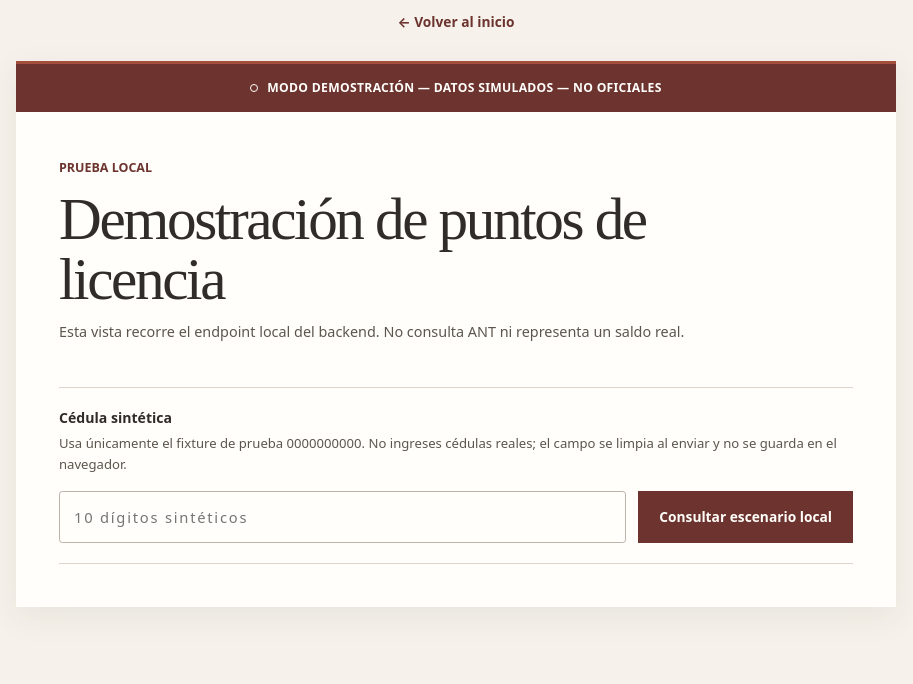
Test: demostración local de puntos ANT › muestra el resultado simulado, la fecha y no persiste la identificación
Step 1. Type "0000000000" into the field labelled "Cédula sintética" → [343, 517], box x1=59 y1=491 x2=626 y2=543
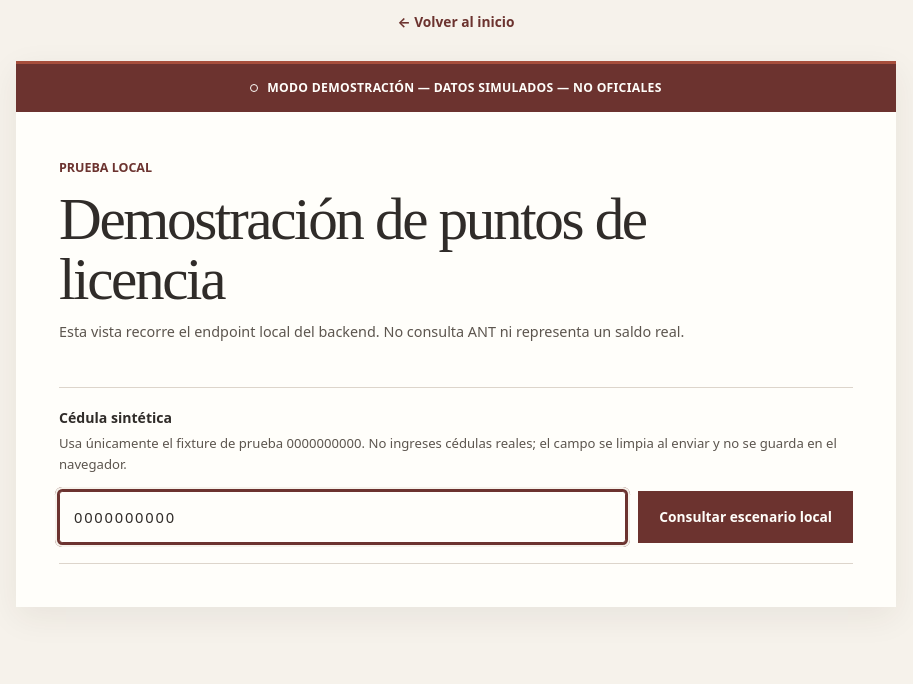
Step 2. Click the button "Consultar escenario local" → [746, 517], box x1=638 y1=491 x2=853 y2=543
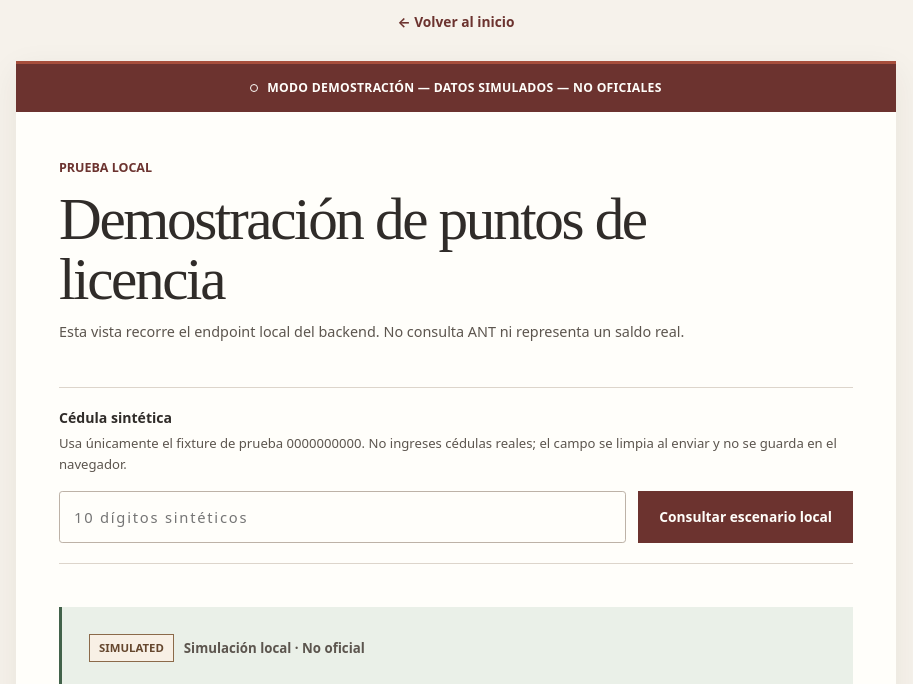
Check: the message named "Resultado simulado" shows "SIMULATED", box x1=99 y1=640 x2=164 y2=655
